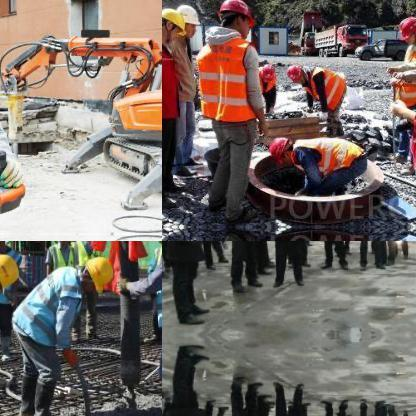Helmet: (214, 0, 253, 34), (81, 254, 113, 294), (0, 248, 21, 293), (162, 5, 188, 41), (173, 1, 197, 35), (395, 13, 415, 43), (266, 136, 291, 160), (284, 61, 308, 82), (258, 61, 276, 82)
